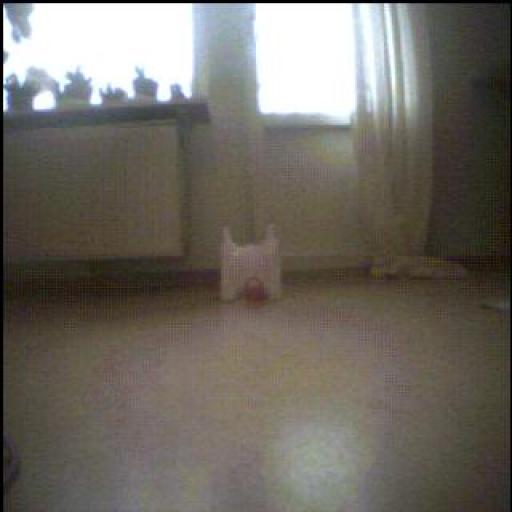Basket: (244, 278, 268, 303)
